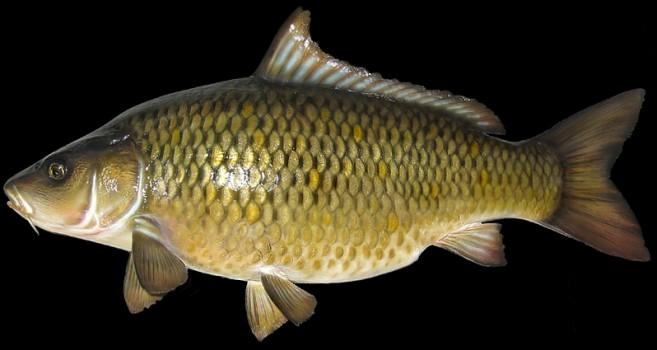Indian Carp: (6, 8, 651, 340)
